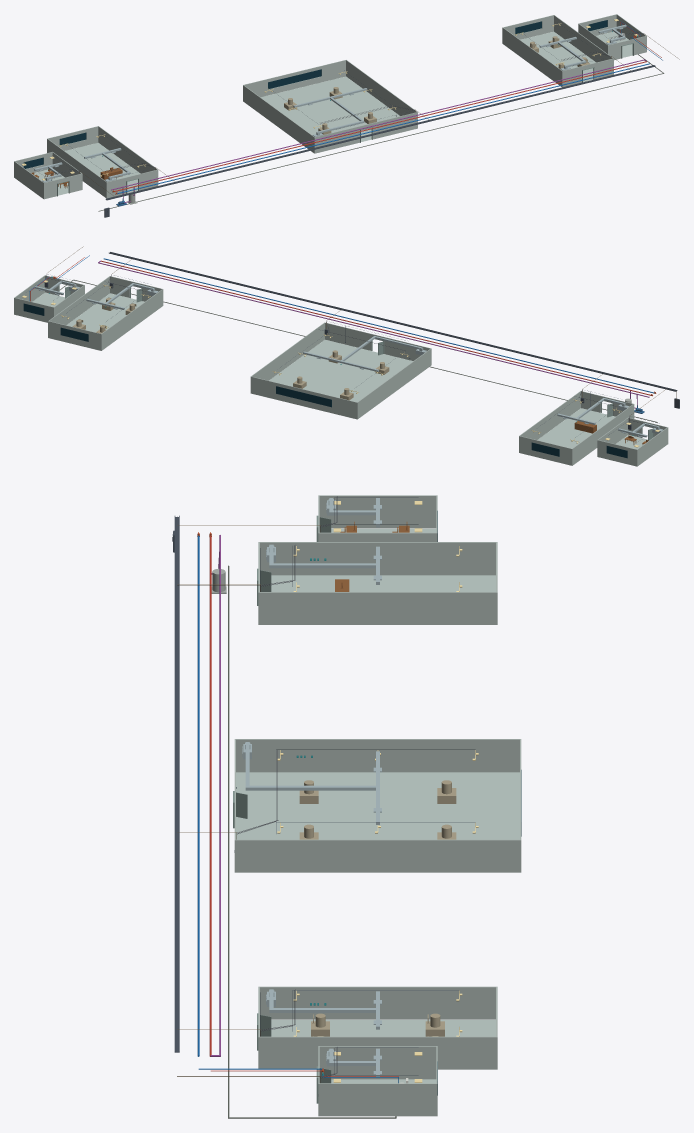
File: EXHIBITION.glb
The picture shows the model from 3 angles, top to bottom: view 1: azimuth 30°, elevation 25°; view 2: azimuth 150°, elevation 25°; view 3: azimuth 270°, elevation 25°; orthographic projection. The views are drawn at different scales.
Visible parts, largest first — view 1: V4_EXHIBITION_R02_WALLS, V4_EXHIBITION_R02_FLOOR_ZONE, V4_EXHIBITION_R03_WALLS, V4_EXHIBITION_R01_WALLS, V4_EXHIBITION_R04_WALLS, V4_EXHIBITION_TRAY0, V4_EXHIBITION_R05_WALLS, V4_EXHIBITION_R01_FLOOR_ZONE, V4_EXHIBITION_R03_FLOOR_ZONE, V4_EXHIBITION_MAIN_HOT_RETURN, V4_EXHIBITION_MAIN_HOT, V4_EXHIBITION_MAIN_COLD (+3 smaller); view 2: V4_EXHIBITION_R02_WALLS, V4_EXHIBITION_R02_FLOOR_ZONE, V4_EXHIBITION_R03_WALLS, V4_EXHIBITION_R01_WALLS, V4_EXHIBITION_R04_WALLS, V4_EXHIBITION_TRAY0, V4_EXHIBITION_R05_WALLS, V4_EXHIBITION_R01_FLOOR_ZONE, V4_EXHIBITION_R03_FLOOR_ZONE, V4_EXHIBITION_MAIN_HOT_RETURN, V4_EXHIBITION_MAIN_COLD, V4_EXHIBITION_MAIN_HOT (+5 smaller); view 3: V4_EXHIBITION_R02_WALLS, V4_EXHIBITION_R02_FLOOR_ZONE, V4_EXHIBITION_R01_WALLS, V4_EXHIBITION_R03_WALLS, V4_EXHIBITION_R05_WALLS, V4_EXHIBITION_R04_WALLS, V4_EXHIBITION_R01_FLOOR_ZONE, V4_EXHIBITION_TRAY0, V4_EXHIBITION_R03_FLOOR_ZONE, V4_EXHIBITION_MAIN_COLD, V4_EXHIBITION_MAIN_HOT, V4_EXHIBITION_R05_DRAIN (+4 smaller).
Boxes of the visible parts, box(x1,y1,x2,y2) form: V4_EXHIBITION_R02_WALLS: box(243, 60, 417, 153); V4_EXHIBITION_R02_FLOOR_ZONE: box(261, 76, 399, 141); V4_EXHIBITION_R03_WALLS: box(502, 15, 613, 87); V4_EXHIBITION_R01_WALLS: box(47, 126, 158, 198); V4_EXHIBITION_R04_WALLS: box(14, 152, 82, 199); V4_EXHIBITION_TRAY0: box(105, 65, 655, 200); V4_EXHIBITION_R05_WALLS: box(578, 14, 646, 60); V4_EXHIBITION_R01_FLOOR_ZONE: box(65, 142, 140, 193); V4_EXHIBITION_R03_FLOOR_ZONE: box(520, 31, 595, 81); V4_EXHIBITION_MAIN_HOT_RETURN: box(111, 59, 646, 190); V4_EXHIBITION_MAIN_HOT: box(114, 61, 646, 191); V4_EXHIBITION_MAIN_COLD: box(117, 63, 649, 193); V4_EXHIBITION_R02_WALLS: box(250, 322, 431, 419); V4_EXHIBITION_R02_FLOOR_ZONE: box(269, 339, 412, 402); V4_EXHIBITION_R03_WALLS: box(48, 276, 163, 350); V4_EXHIBITION_R01_WALLS: box(519, 391, 634, 465); V4_EXHIBITION_R04_WALLS: box(597, 417, 668, 466); V4_EXHIBITION_TRAY0: box(109, 252, 677, 391); V4_EXHIBITION_R05_WALLS: box(14, 275, 84, 322); V4_EXHIBITION_R01_FLOOR_ZONE: box(537, 408, 615, 448); V4_EXHIBITION_R03_FLOOR_ZONE: box(67, 293, 144, 332); V4_EXHIBITION_MAIN_HOT_RETURN: box(98, 260, 649, 397); V4_EXHIBITION_MAIN_COLD: box(103, 258, 654, 393); V4_EXHIBITION_MAIN_HOT: box(101, 260, 651, 395); V4_EXHIBITION_R02_WALLS: box(234, 739, 521, 872); V4_EXHIBITION_R02_FLOOR_ZONE: box(236, 772, 519, 839); V4_EXHIBITION_R01_WALLS: box(258, 542, 497, 624); V4_EXHIBITION_R03_WALLS: box(258, 986, 497, 1069); V4_EXHIBITION_R05_WALLS: box(318, 1046, 437, 1116); V4_EXHIBITION_R04_WALLS: box(318, 495, 437, 541); V4_EXHIBITION_R01_FLOOR_ZONE: box(271, 575, 495, 591); V4_EXHIBITION_TRAY0: box(174, 515, 179, 1052); V4_EXHIBITION_R03_FLOOR_ZONE: box(271, 1020, 495, 1036); V4_EXHIBITION_MAIN_COLD: box(197, 535, 199, 1056); V4_EXHIBITION_MAIN_HOT: box(209, 535, 211, 1056); V4_EXHIBITION_R05_DRAIN: box(228, 565, 396, 1118).
Bounding box in the file's own units: 116 × 4.26 × 29.23.
